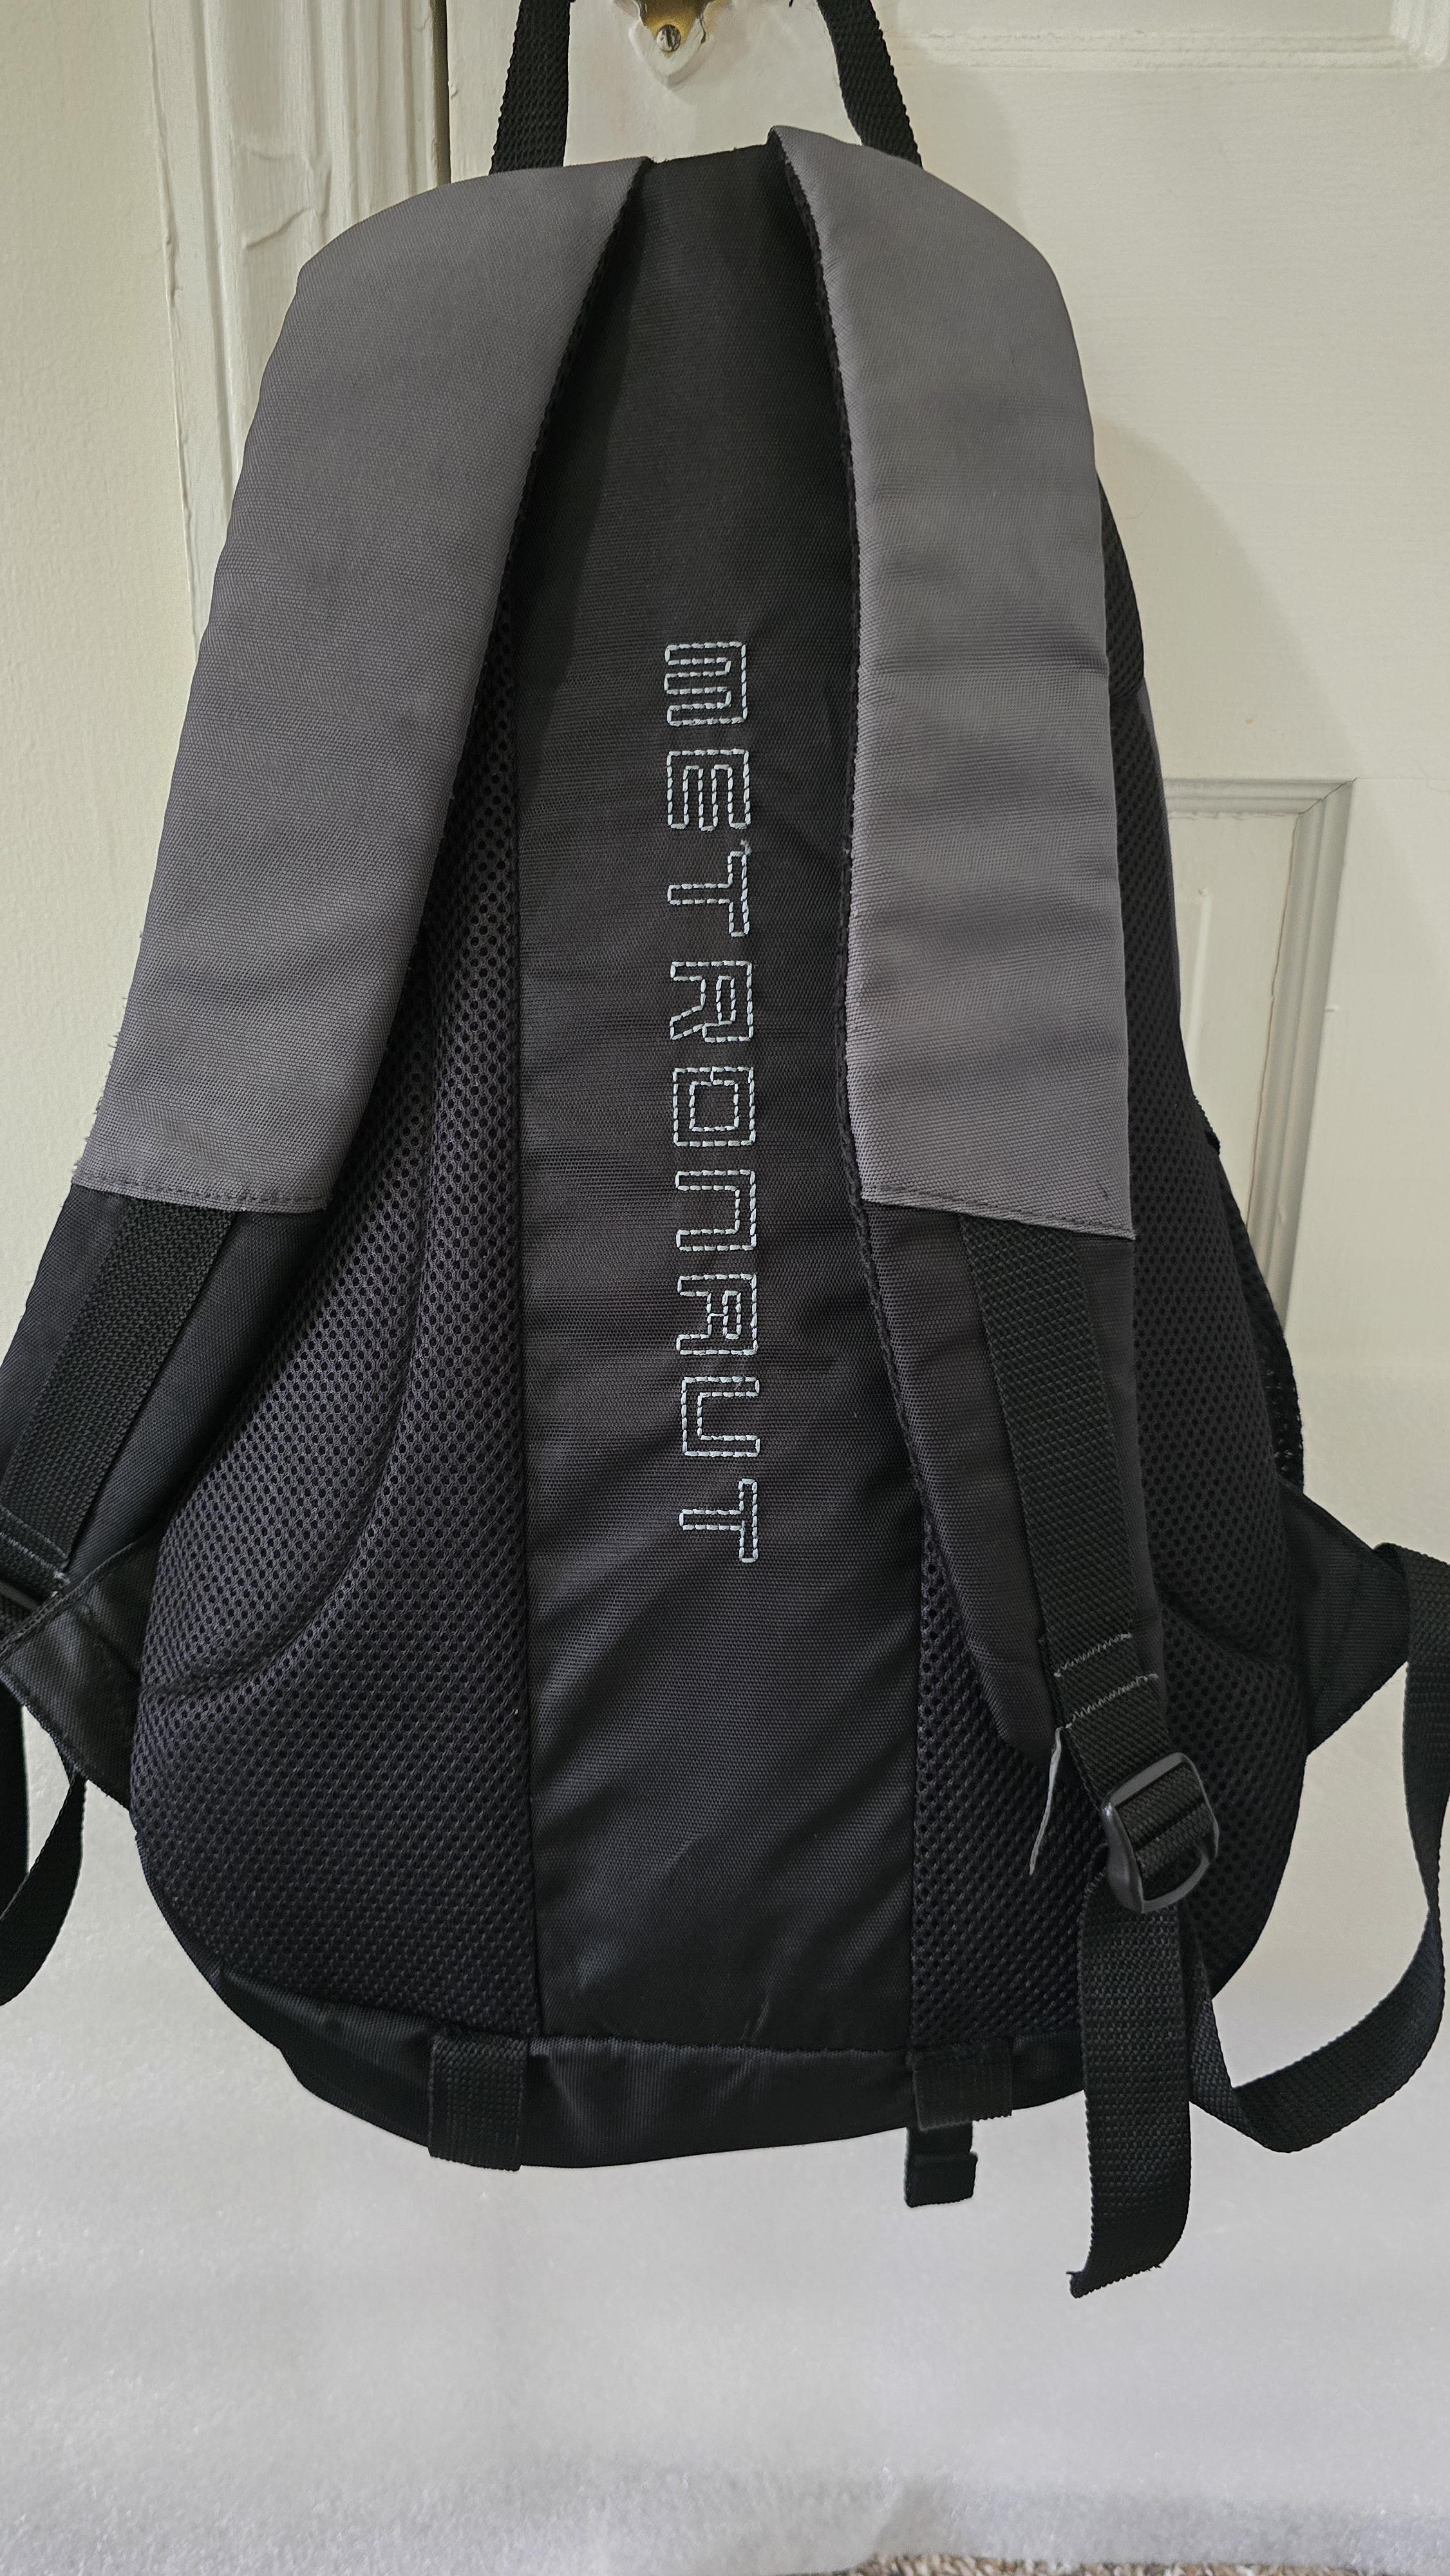bag: (76, 124, 1450, 2235)
